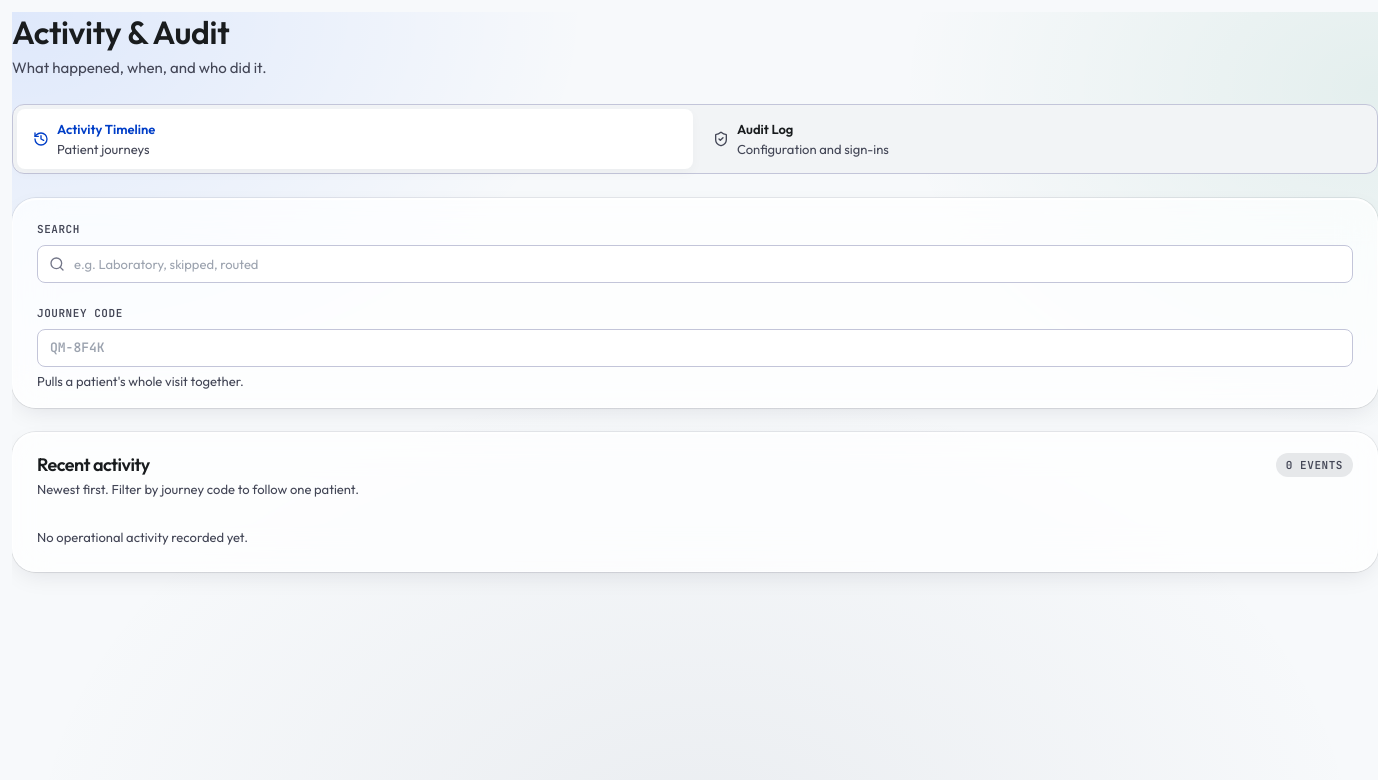
Audit Log › records who changed an SLA, and to what
The image size is (1378, 780).
Click the tab "Audit Log Configuration and sign-ins" at (765, 129), box [697, 109, 1373, 169]
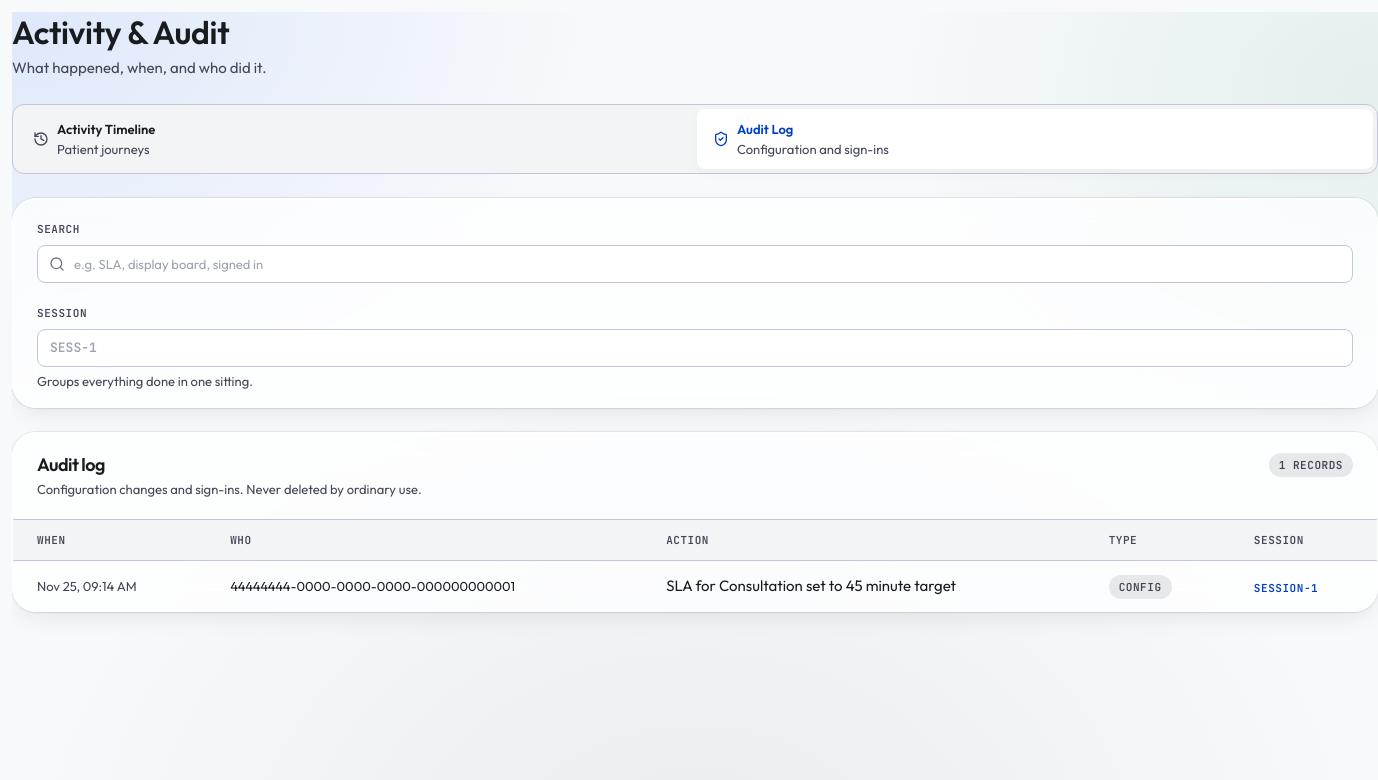
Result: the text "SLA for Consultation set to 45 minute target" is shown at [642, 560, 1085, 611]
